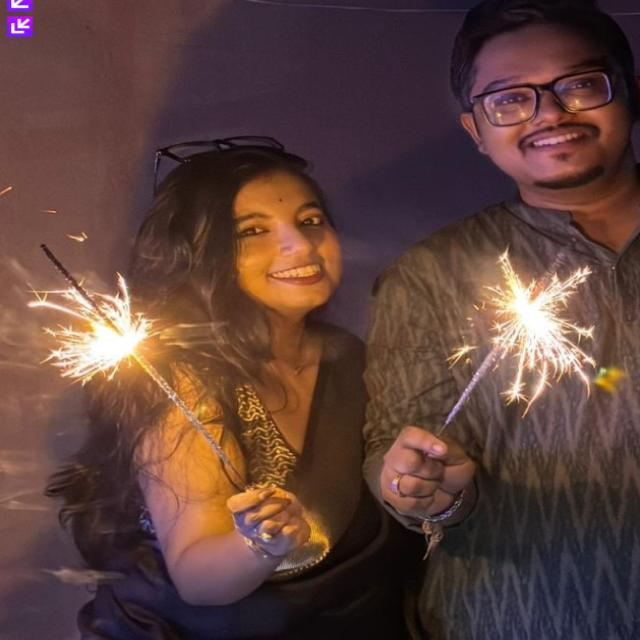fire: (441, 244, 596, 418), (27, 272, 161, 388)
